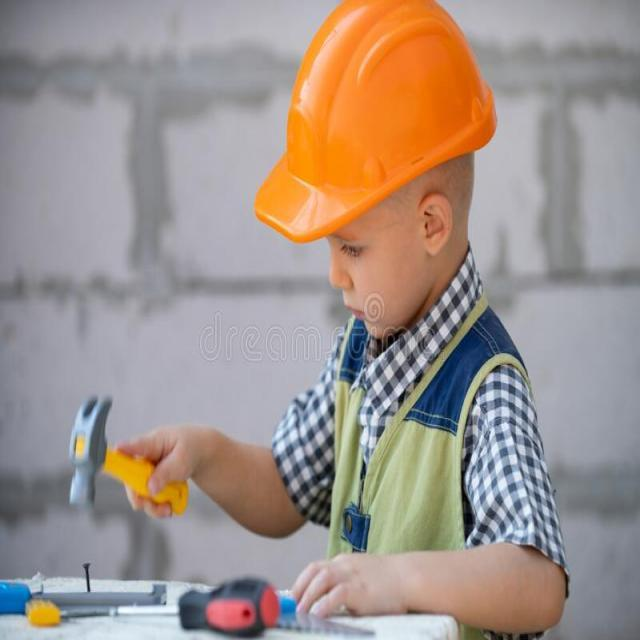hammer: (56, 382, 212, 520)
screwdriver: (107, 567, 286, 630)
